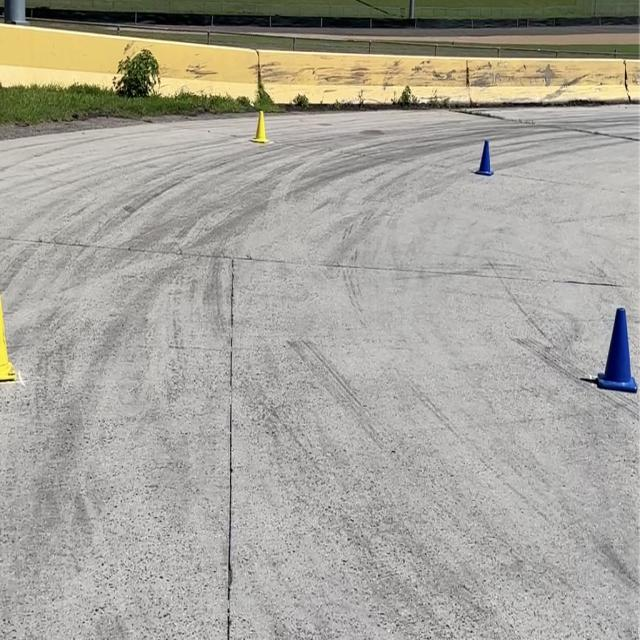blue_cone: (596, 299, 638, 396), (475, 134, 493, 180)
yellow_cone: (1, 286, 16, 388), (252, 108, 268, 144)
